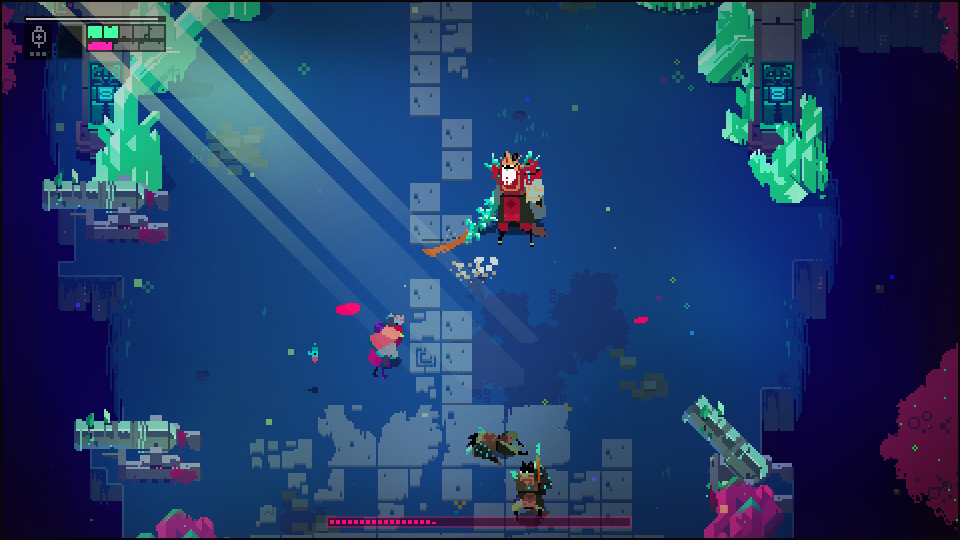hanged_man: (453, 142, 552, 251)
player: (367, 310, 407, 365)
